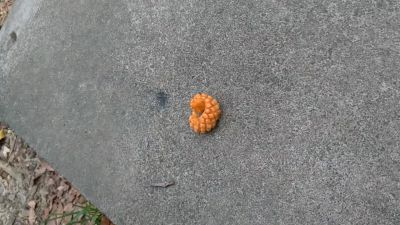eggs: (188, 92, 221, 136)
